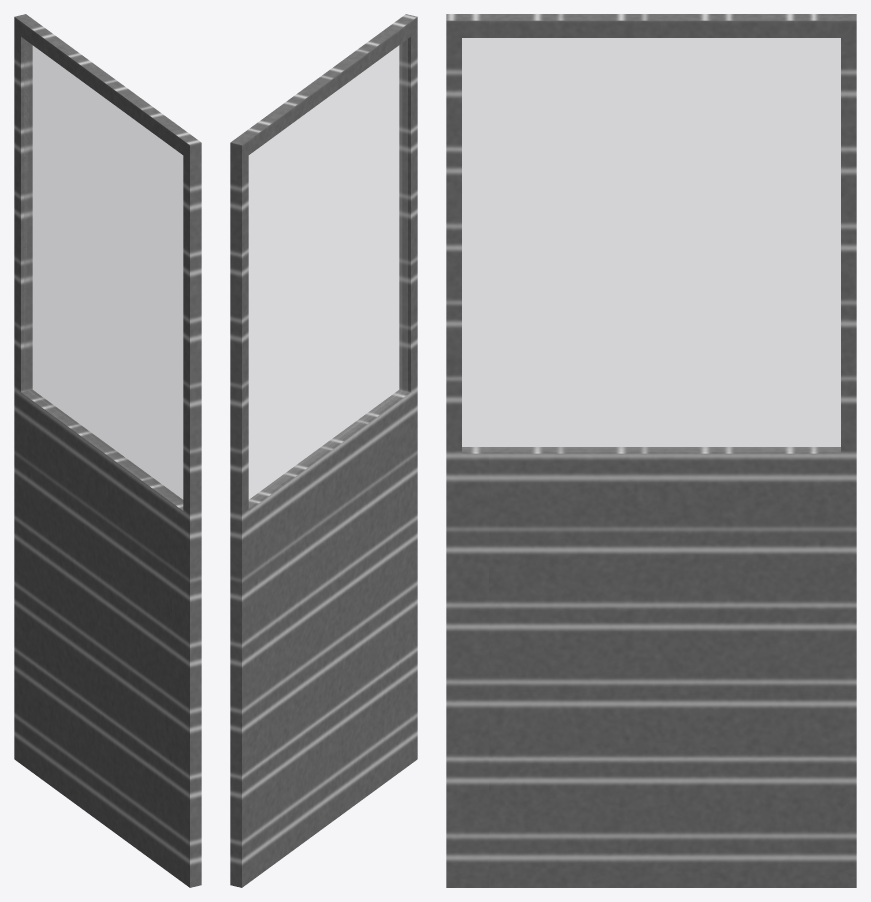
Rendered from Train Door.glb.
The picture shows the model from 3 angles, left to right: view 1: azimuth 30°, elevation 25°; view 2: azimuth 150°, elevation 25°; view 3: azimuth 270°, elevation 25°; orthographic projection. The views are drawn at different scales.
Visible parts, largest first — view 1: Door; view 2: Door; view 3: Door.
Boxes of the visible parts, <box> form: Door: <box>14,14,201,887</box>; Door: <box>230,14,417,887</box>; Door: <box>446,14,856,887</box>.
Size of the model in its own units: 0.0345 by 2.13 by 0.9144.
Materials: 2 (1 with a texture image).
